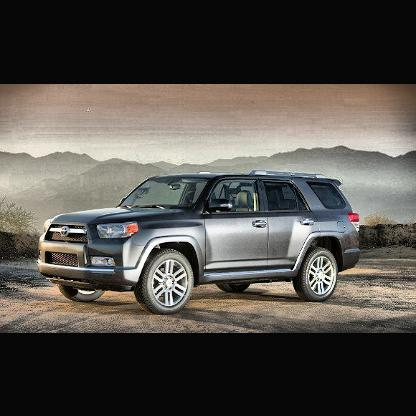Toyota 4Runner SUV 2012: (35, 169, 366, 318)
